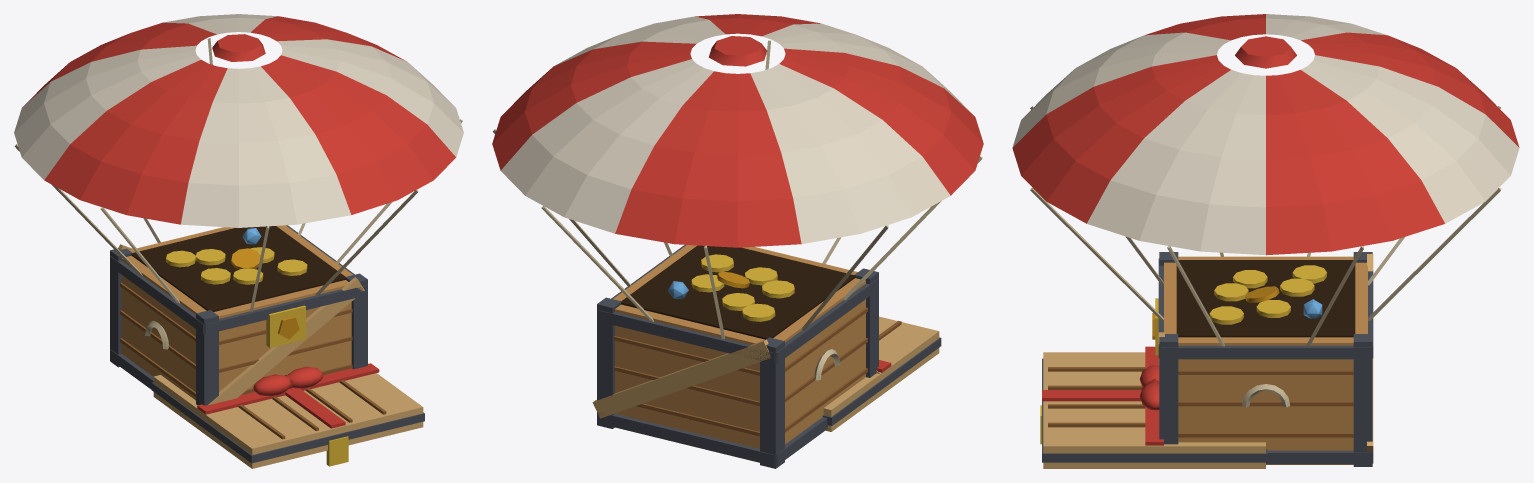
Rendered from loot-crate.glb.
The picture shows the model from 3 angles, left to right: view 1: azimuth 30°, elevation 25°; view 2: azimuth 150°, elevation 25°; view 3: azimuth 270°, elevation 25°; orthographic projection. The views are drawn at different scales.
Visible parts, largest first — view 1: prop-parachute, prop-loot_crate, prop-loot_crate-lid; view 2: prop-parachute, prop-loot_crate, prop-loot_crate-lid; view 3: prop-parachute, prop-loot_crate, prop-loot_crate-lid.
Part boxes in pixels (x1,y1,x2,y2): prop-parachute: [14, 14, 463, 311]; prop-loot_crate: [110, 225, 367, 405]; prop-loot_crate-lid: [151, 363, 424, 468]; prop-parachute: [492, 14, 983, 339]; prop-loot_crate: [592, 245, 881, 468]; prop-loot_crate-lid: [822, 316, 941, 431]; prop-parachute: [1012, 14, 1519, 346]; prop-loot_crate: [1152, 252, 1373, 466]; prop-loot_crate-lid: [1040, 346, 1267, 468].
Bounding box in the file's own units: 3.24 × 2.76 × 3.24.
